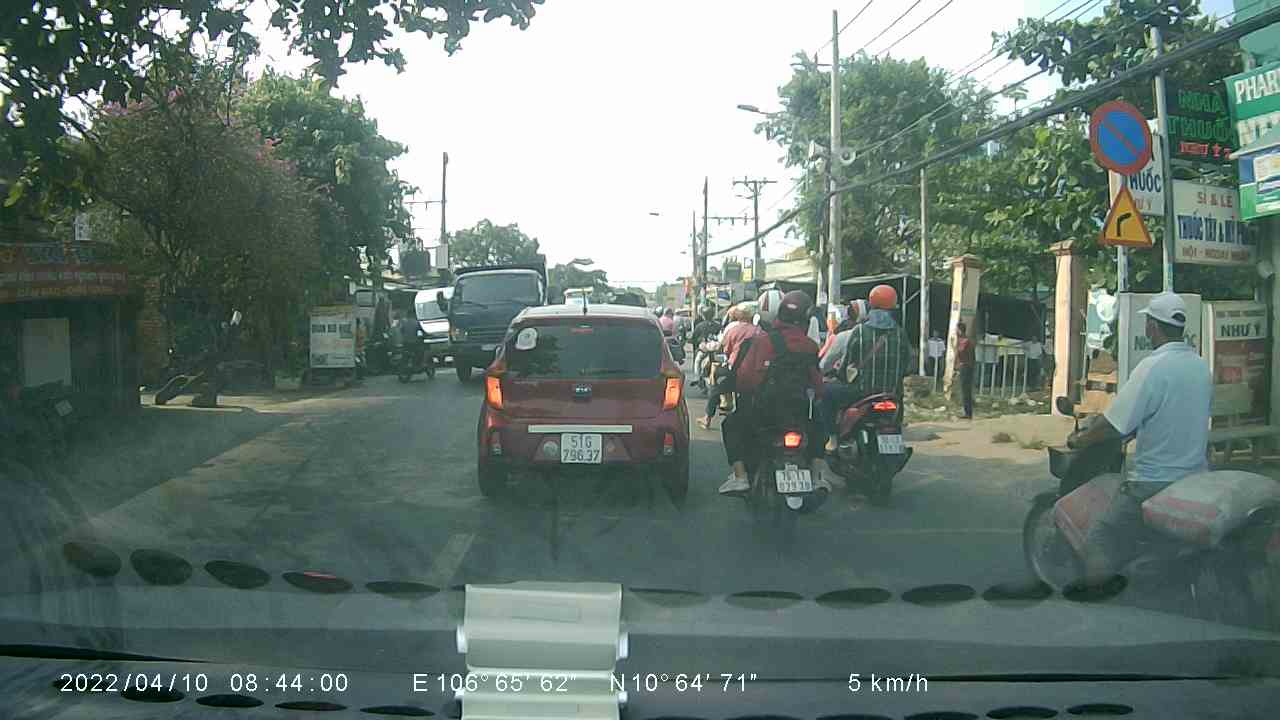Bien khac: (1092, 182, 1156, 249)
Cam do xe: (1086, 96, 1162, 175)
